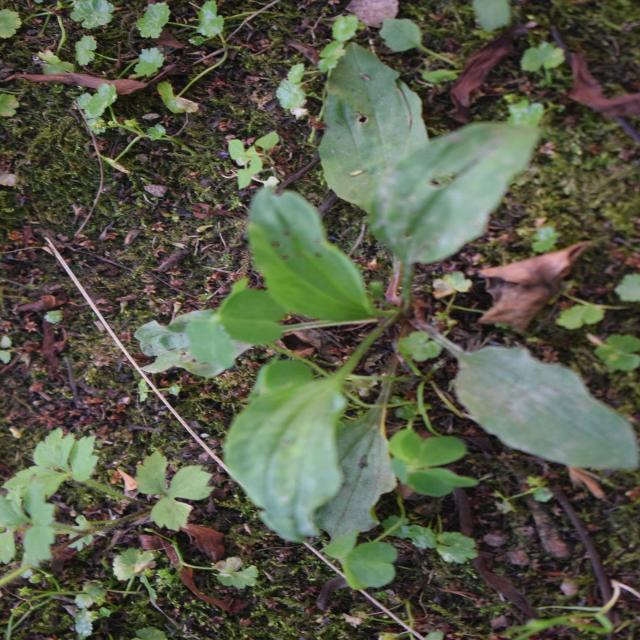plantain: (102, 185, 538, 542)
